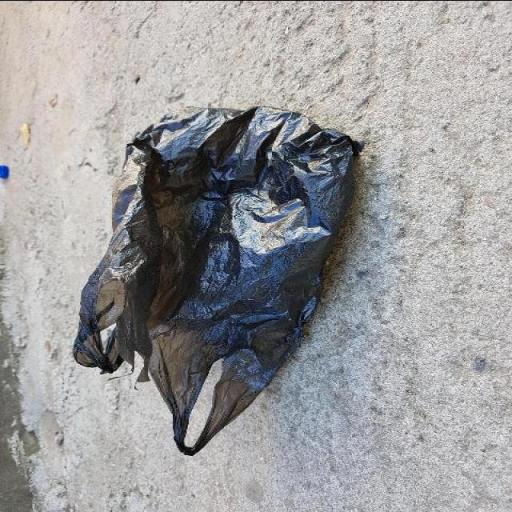plastic-bag: (70, 100, 365, 458)
